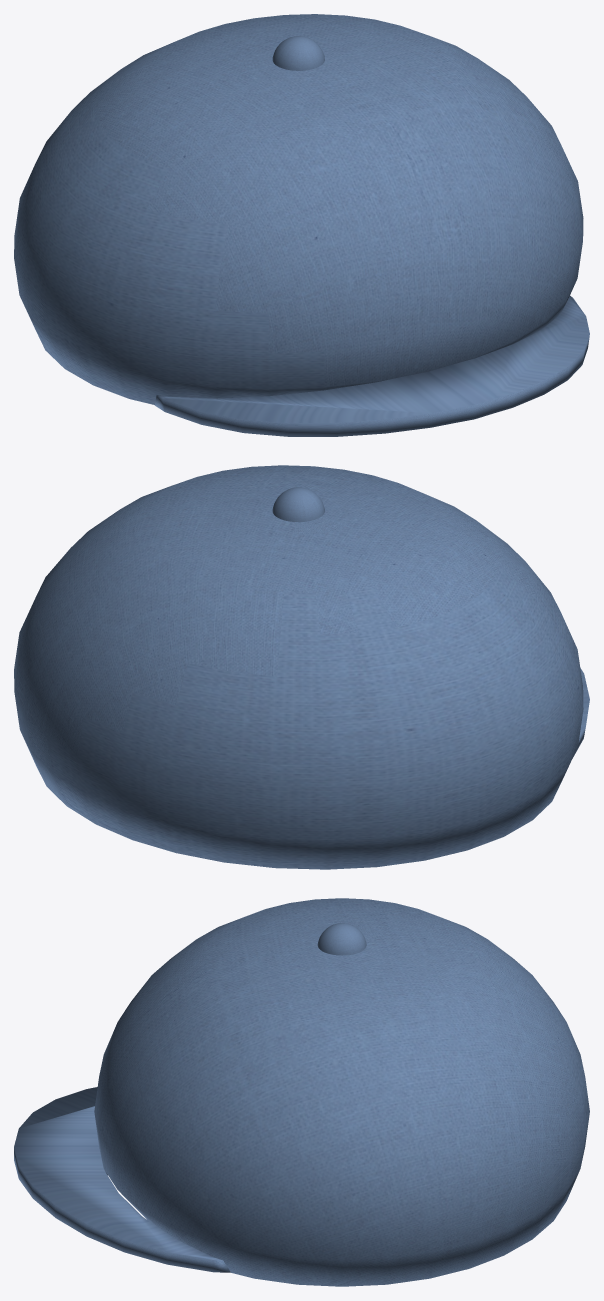
Rendered from Casquette.fbx.
The picture shows the model from 3 angles, top to bottom: view 1: azimuth 30°, elevation 25°; view 2: azimuth 150°, elevation 25°; view 3: azimuth 270°, elevation 25°; orthographic projection. The views are drawn at different scales.
Visible parts, largest first — view 1: Casquette; view 2: Casquette; view 3: Casquette.
Boxes of the visible parts, x1,y1,x2,y2 form: Casquette: (14, 14, 589, 436); Casquette: (14, 465, 589, 869); Casquette: (14, 898, 589, 1286).
Size of the model in its own units: 2.2 by 1.14 by 2.32.
